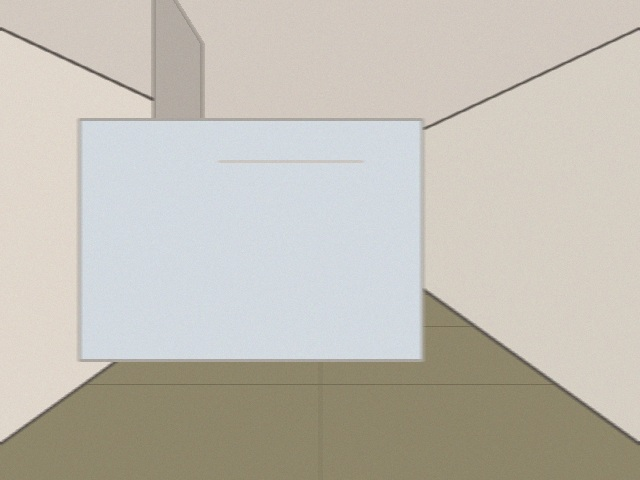directional_sign: (174, 173, 235, 209)
hospital_bed: (79, 119, 422, 360)
